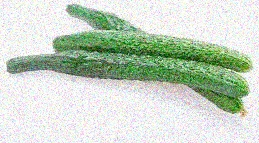cucumber: (68, 6, 251, 69), (5, 54, 247, 96)
